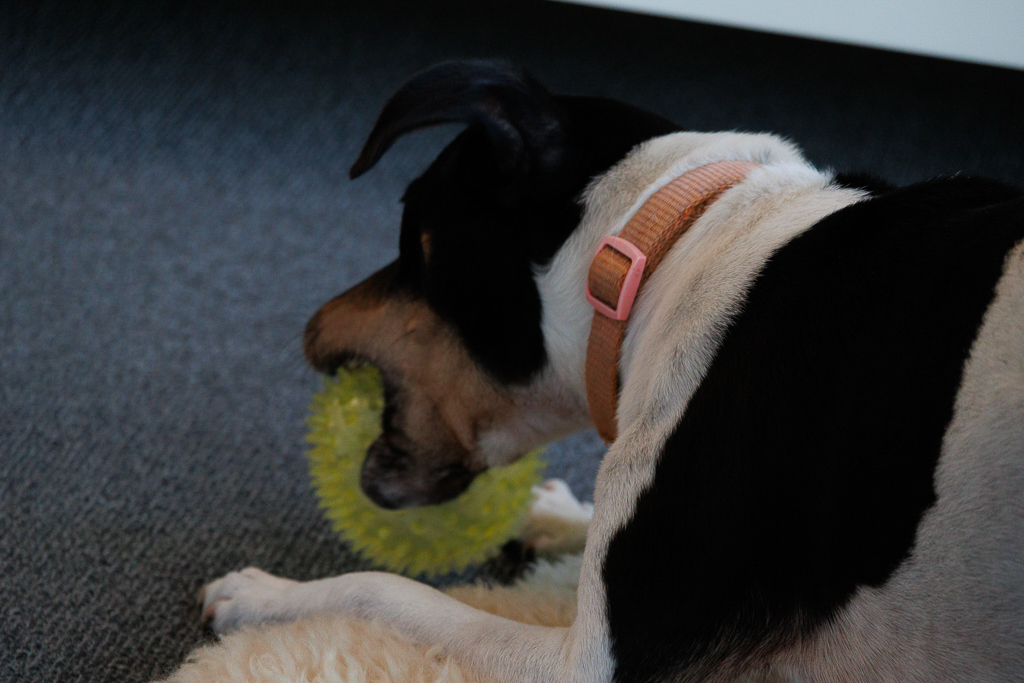Dog: (187, 43, 1024, 683)
